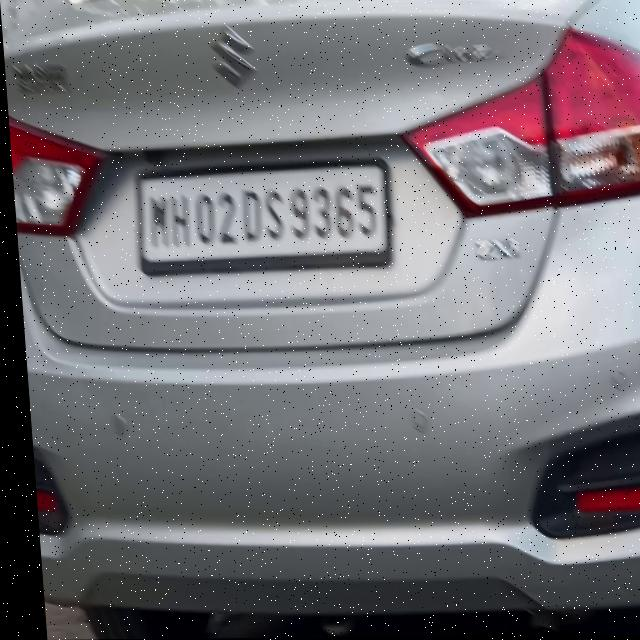plate: (130, 157, 391, 274)
